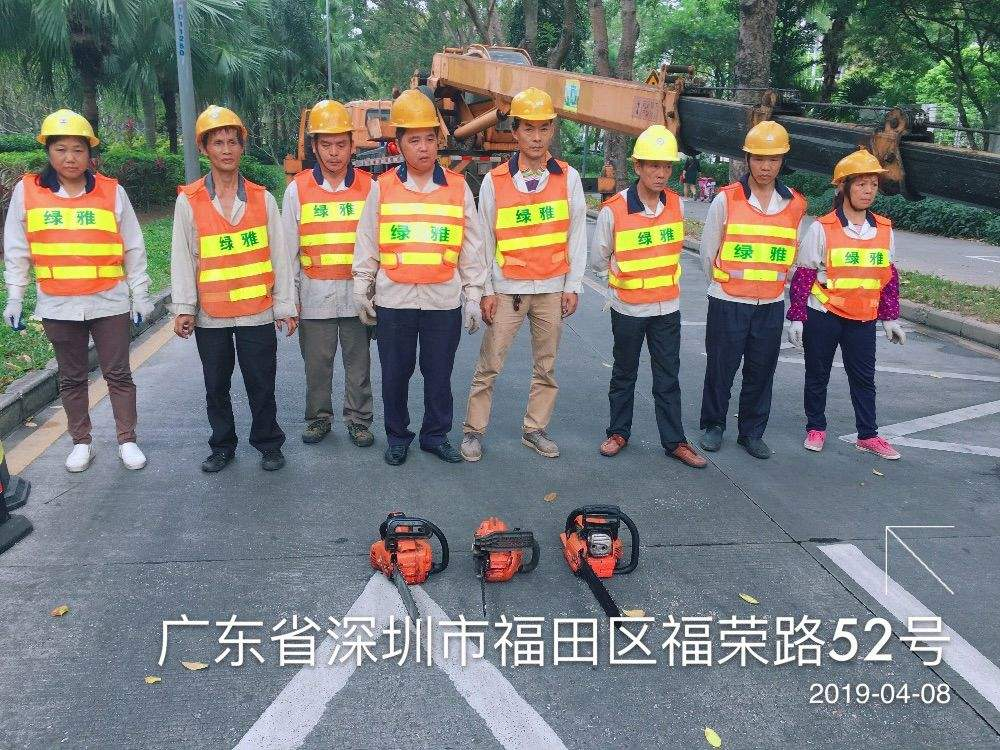person: (2, 105, 154, 477), (352, 86, 487, 469), (460, 84, 590, 464), (166, 102, 298, 475), (589, 122, 709, 471), (696, 117, 809, 461), (785, 145, 905, 458), (279, 95, 377, 451)
reflective_vest: (174, 177, 276, 319), (22, 171, 129, 299), (709, 176, 807, 302), (375, 165, 467, 285), (598, 184, 686, 306), (488, 157, 573, 281), (809, 210, 893, 325), (291, 165, 372, 280)
safety_helmet: (34, 105, 102, 181), (388, 88, 441, 175), (192, 101, 249, 174), (305, 97, 358, 174), (630, 120, 684, 194), (830, 145, 889, 211), (507, 85, 560, 158), (742, 117, 792, 186)
